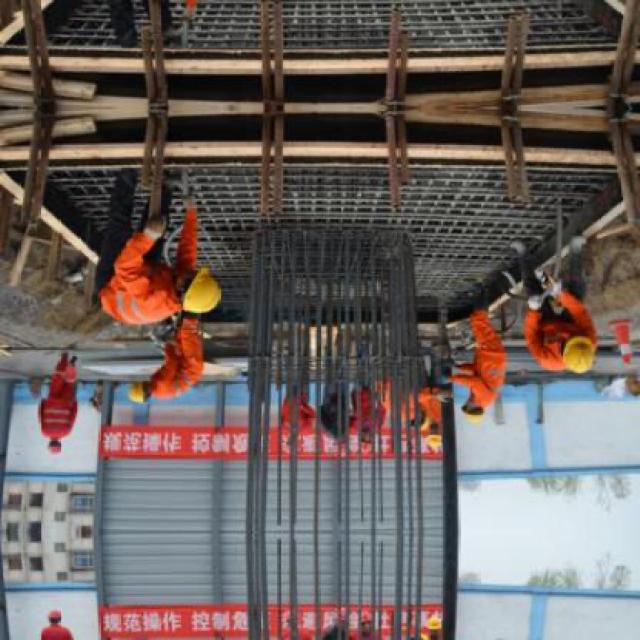con casco: (152, 261, 232, 329), (546, 308, 598, 383), (120, 366, 181, 418), (458, 392, 495, 431), (43, 441, 76, 472)
